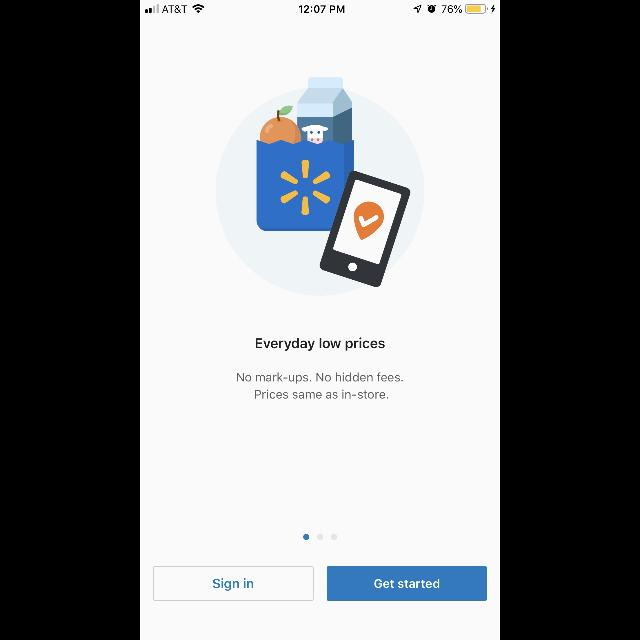image: (216, 78, 424, 296)
pageindicator: (303, 534, 337, 540)
text: (237, 373, 403, 399), (256, 338, 384, 350)
textbutton: (153, 566, 313, 600), (327, 566, 487, 600)
uppertaskbar: (140, 0, 500, 14)
